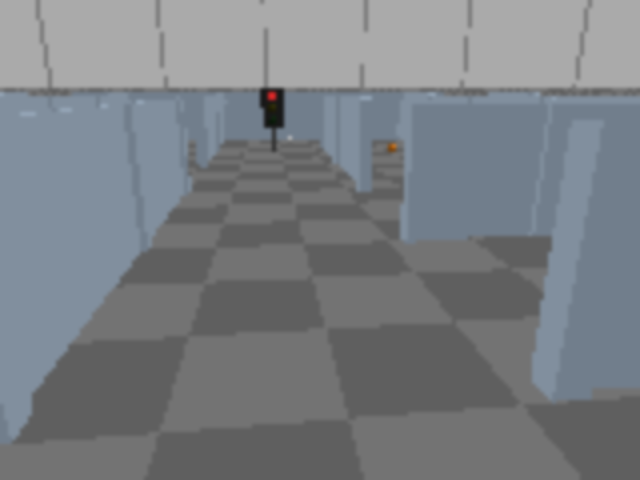traffic_light: (261, 85, 284, 154)
